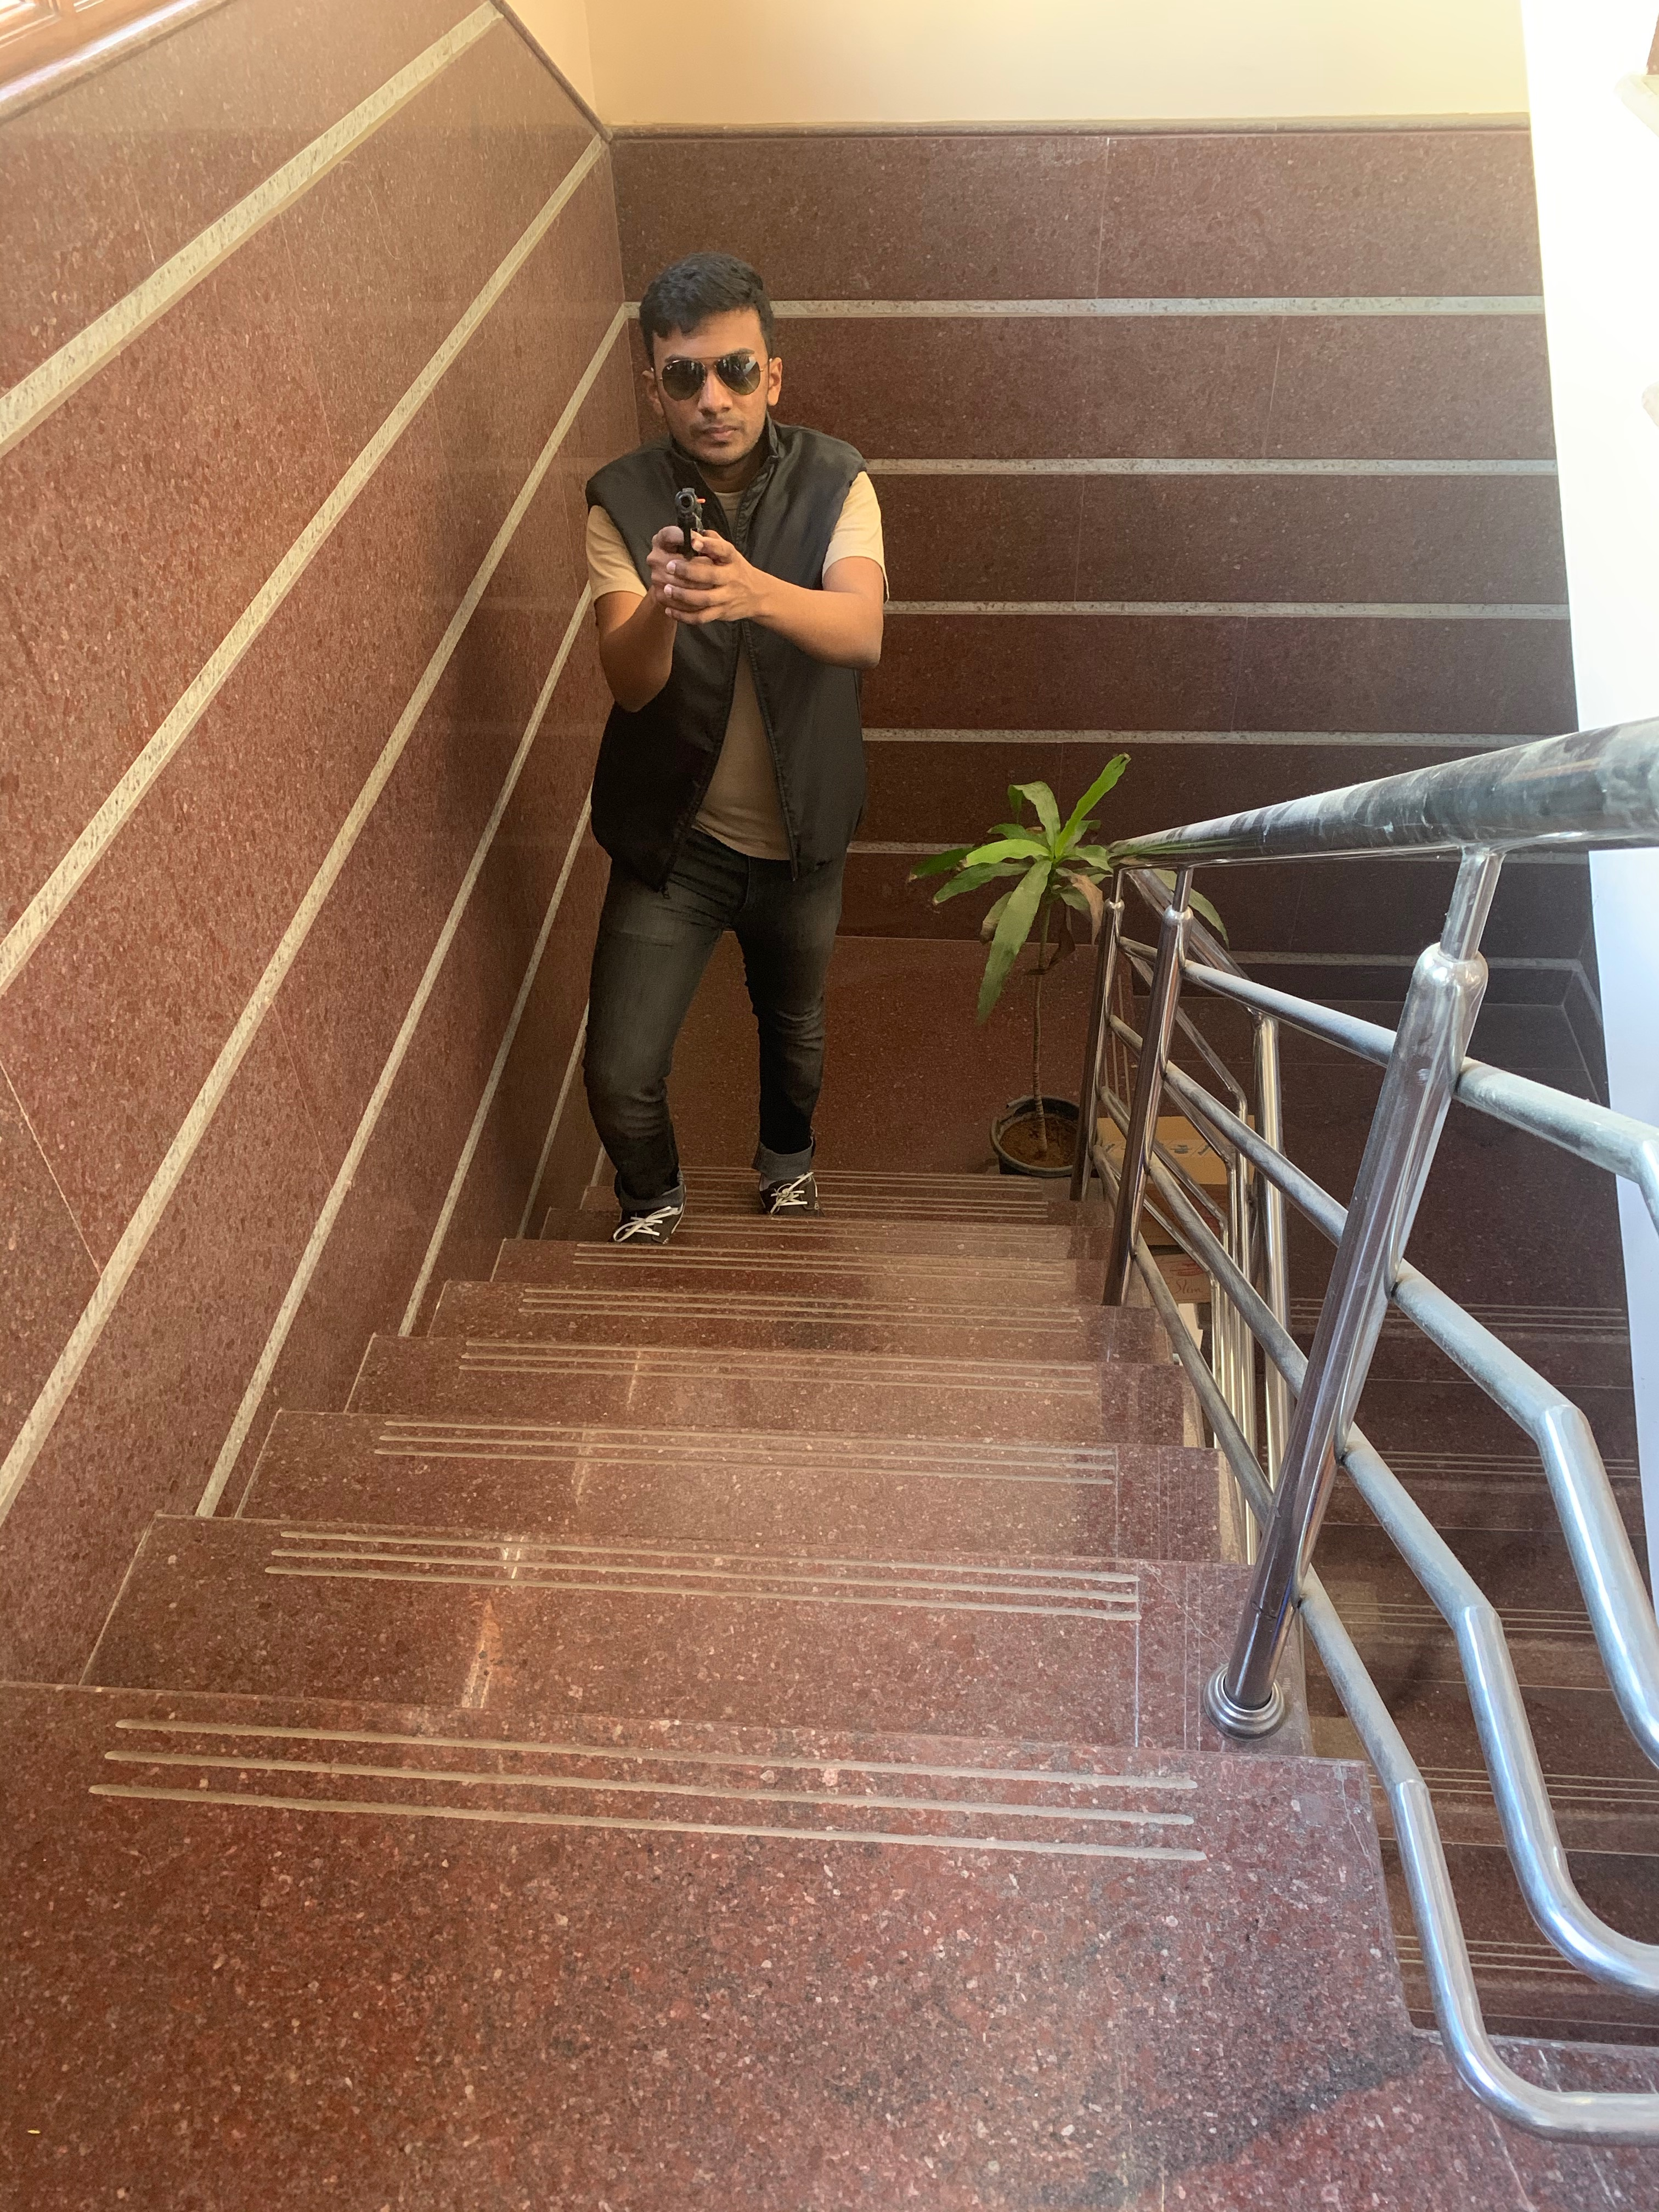gun: (666, 472, 706, 594)
